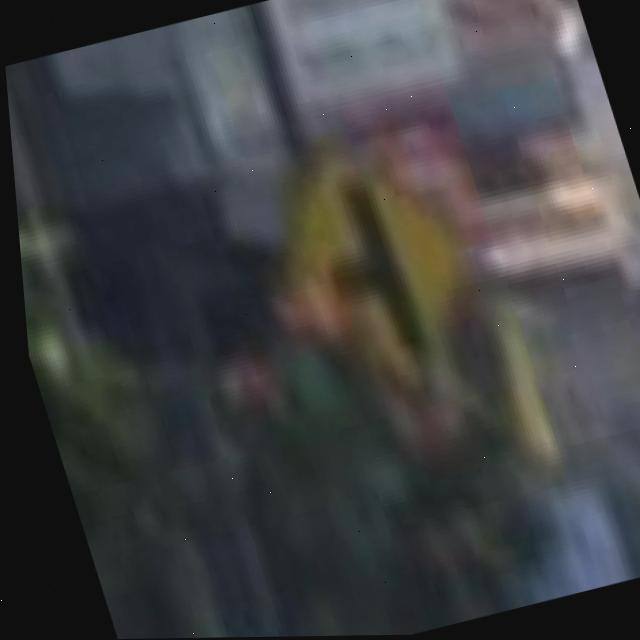Persimpangan 3 Sisi Kiri: (262, 136, 488, 398)
